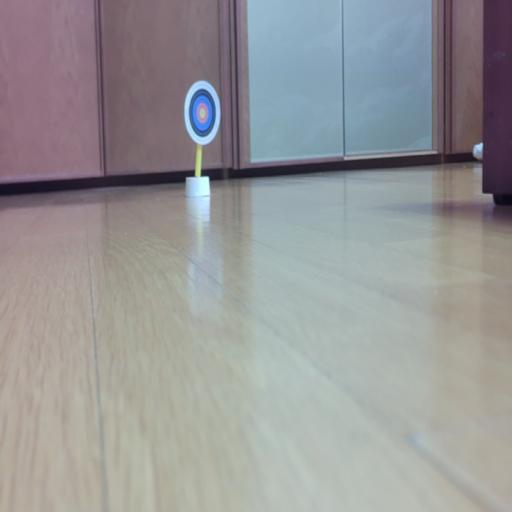target: (184, 80, 220, 146)
